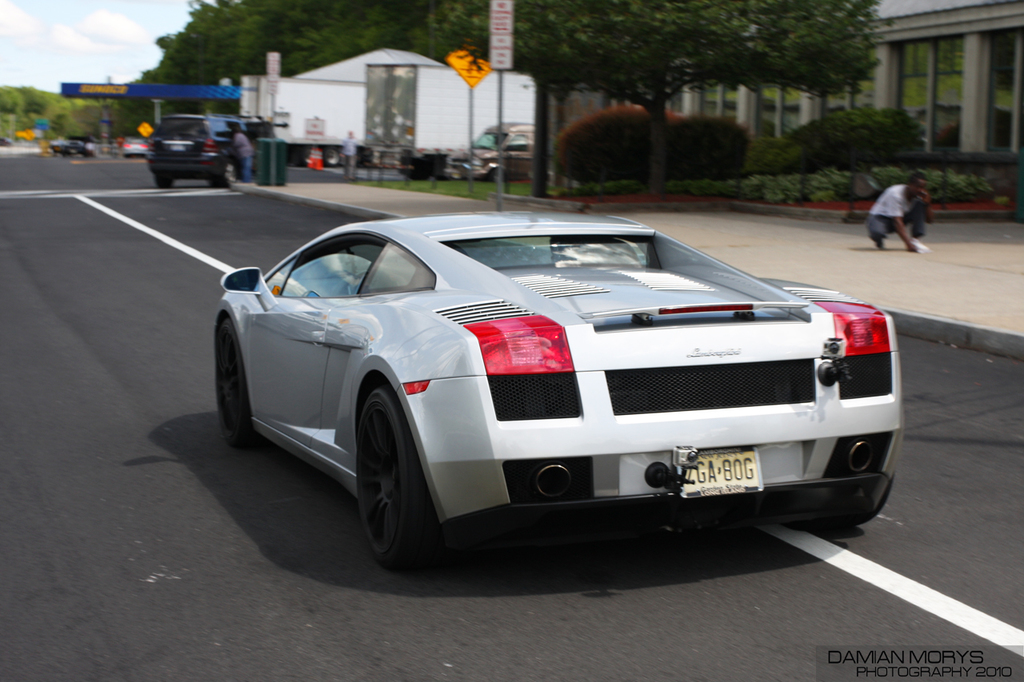mobil: (199, 192, 911, 586)
